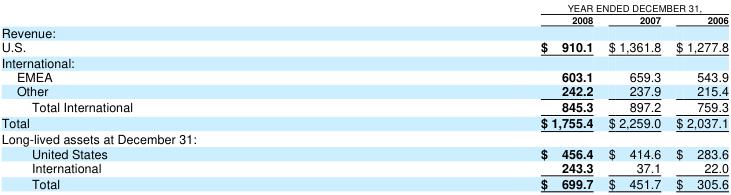table: (0, 0, 727, 191)
table column: (0, 0, 335, 191), (335, 0, 600, 191), (600, 0, 667, 191), (667, 0, 727, 191)
table column header: (0, 0, 727, 24)
table projected row header: (0, 24, 727, 39), (0, 54, 727, 69), (0, 130, 727, 145)
table row: (0, 174, 727, 191), (0, 98, 727, 114), (0, 114, 727, 130), (0, 24, 727, 39), (0, 39, 727, 54), (0, 54, 727, 69), (0, 83, 727, 98), (0, 130, 727, 145), (0, 159, 727, 174), (0, 69, 727, 83), (0, 145, 727, 159), (0, 0, 727, 13), (0, 13, 727, 24)
table spanning cell: (335, 0, 727, 13)
